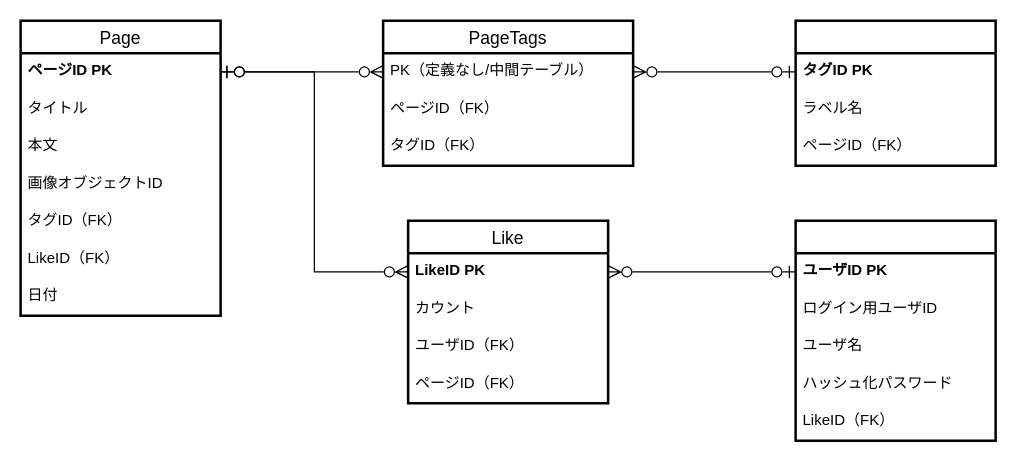
This 1016x461 diagram has some shape labels left out. Each missing label, with the box of its shape:
Tags: (794, 19, 996, 166)
User: (794, 219, 996, 441)
